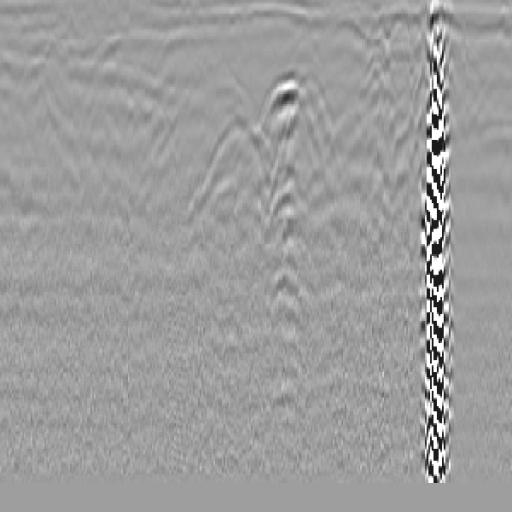metalic: (228, 44, 354, 295)
